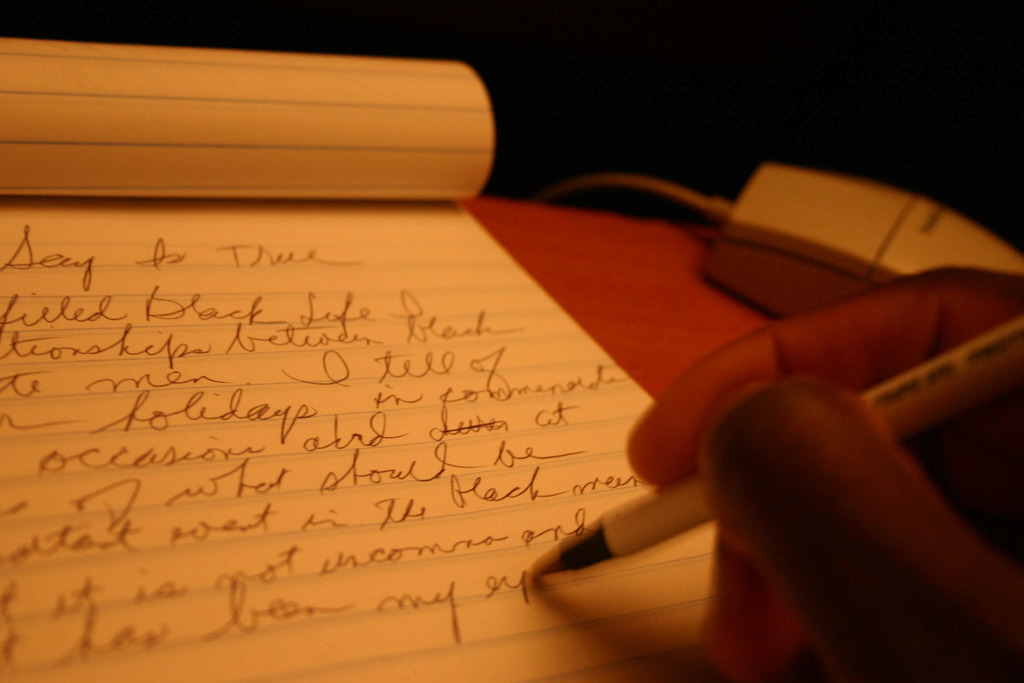Pen: (520, 311, 1023, 583)
